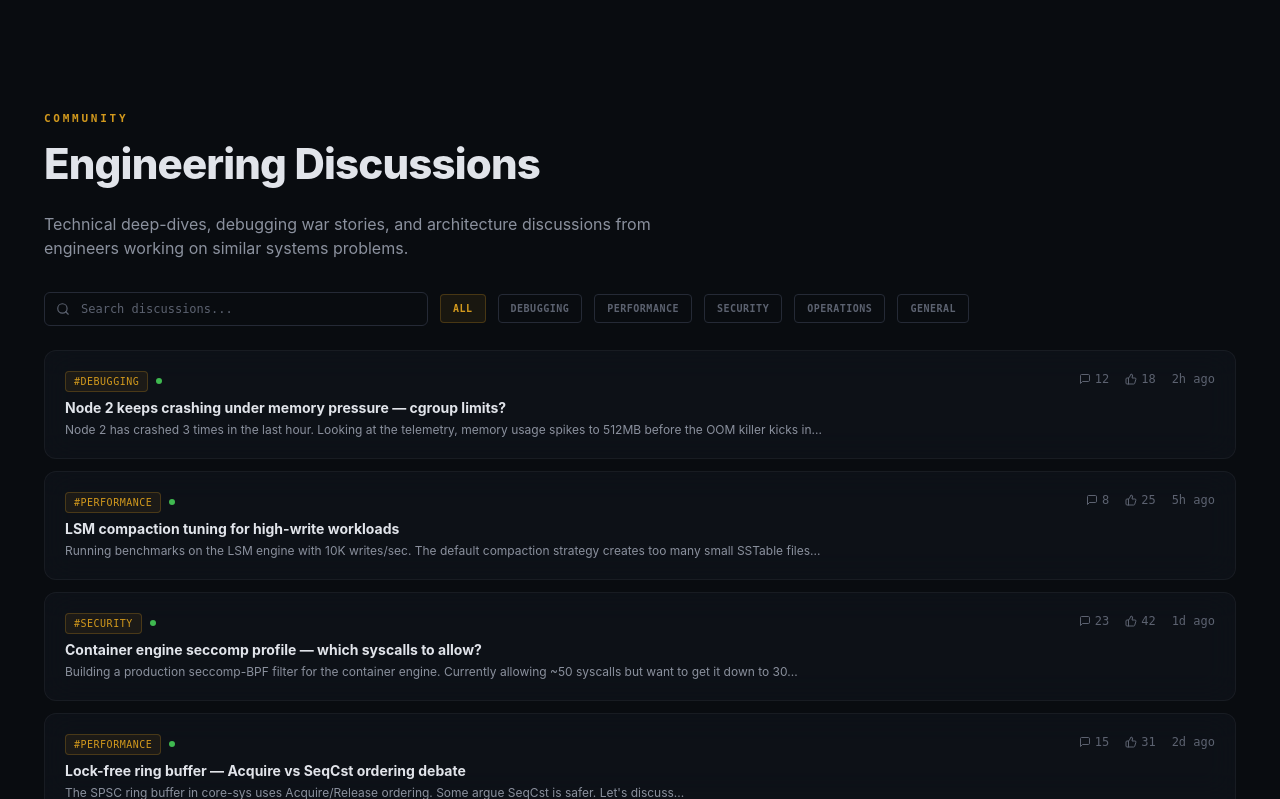
Test: Forum › opens thread detail view on click
The width and height of the screenshot is (1280, 799).
What coordinates should you click on to do the following:
click the heading "Node 2 keeps crashing under memory pressure — cgroup limits?"
I would click on:
 (286, 407)
Its box is [65,399,506,416].
(page scrolled)
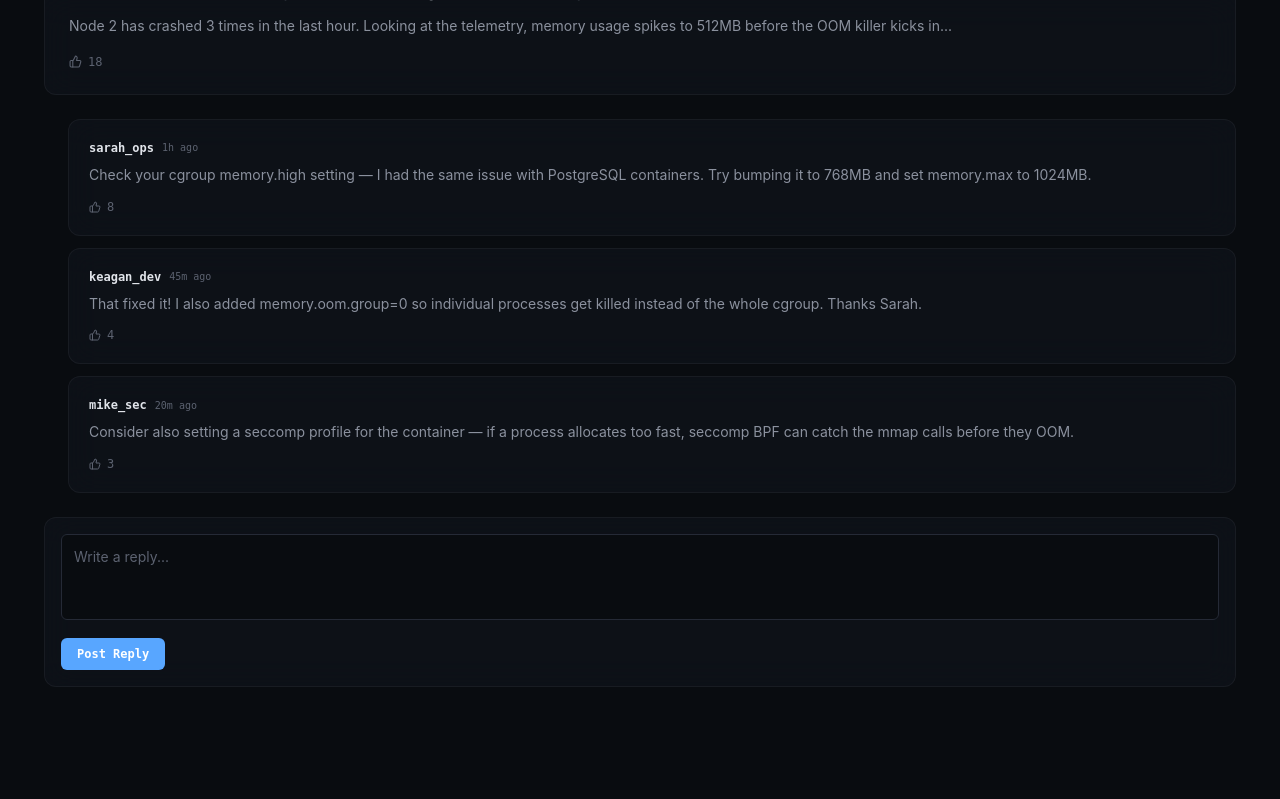
Expected: the text box with placeholder "Write a reply..." is shown, [61,534,1219,620]
Expected: the button "Post Reply" is shown, [61,638,165,670]
